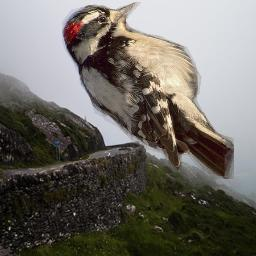Woodpecker: (62, 2, 234, 179)
